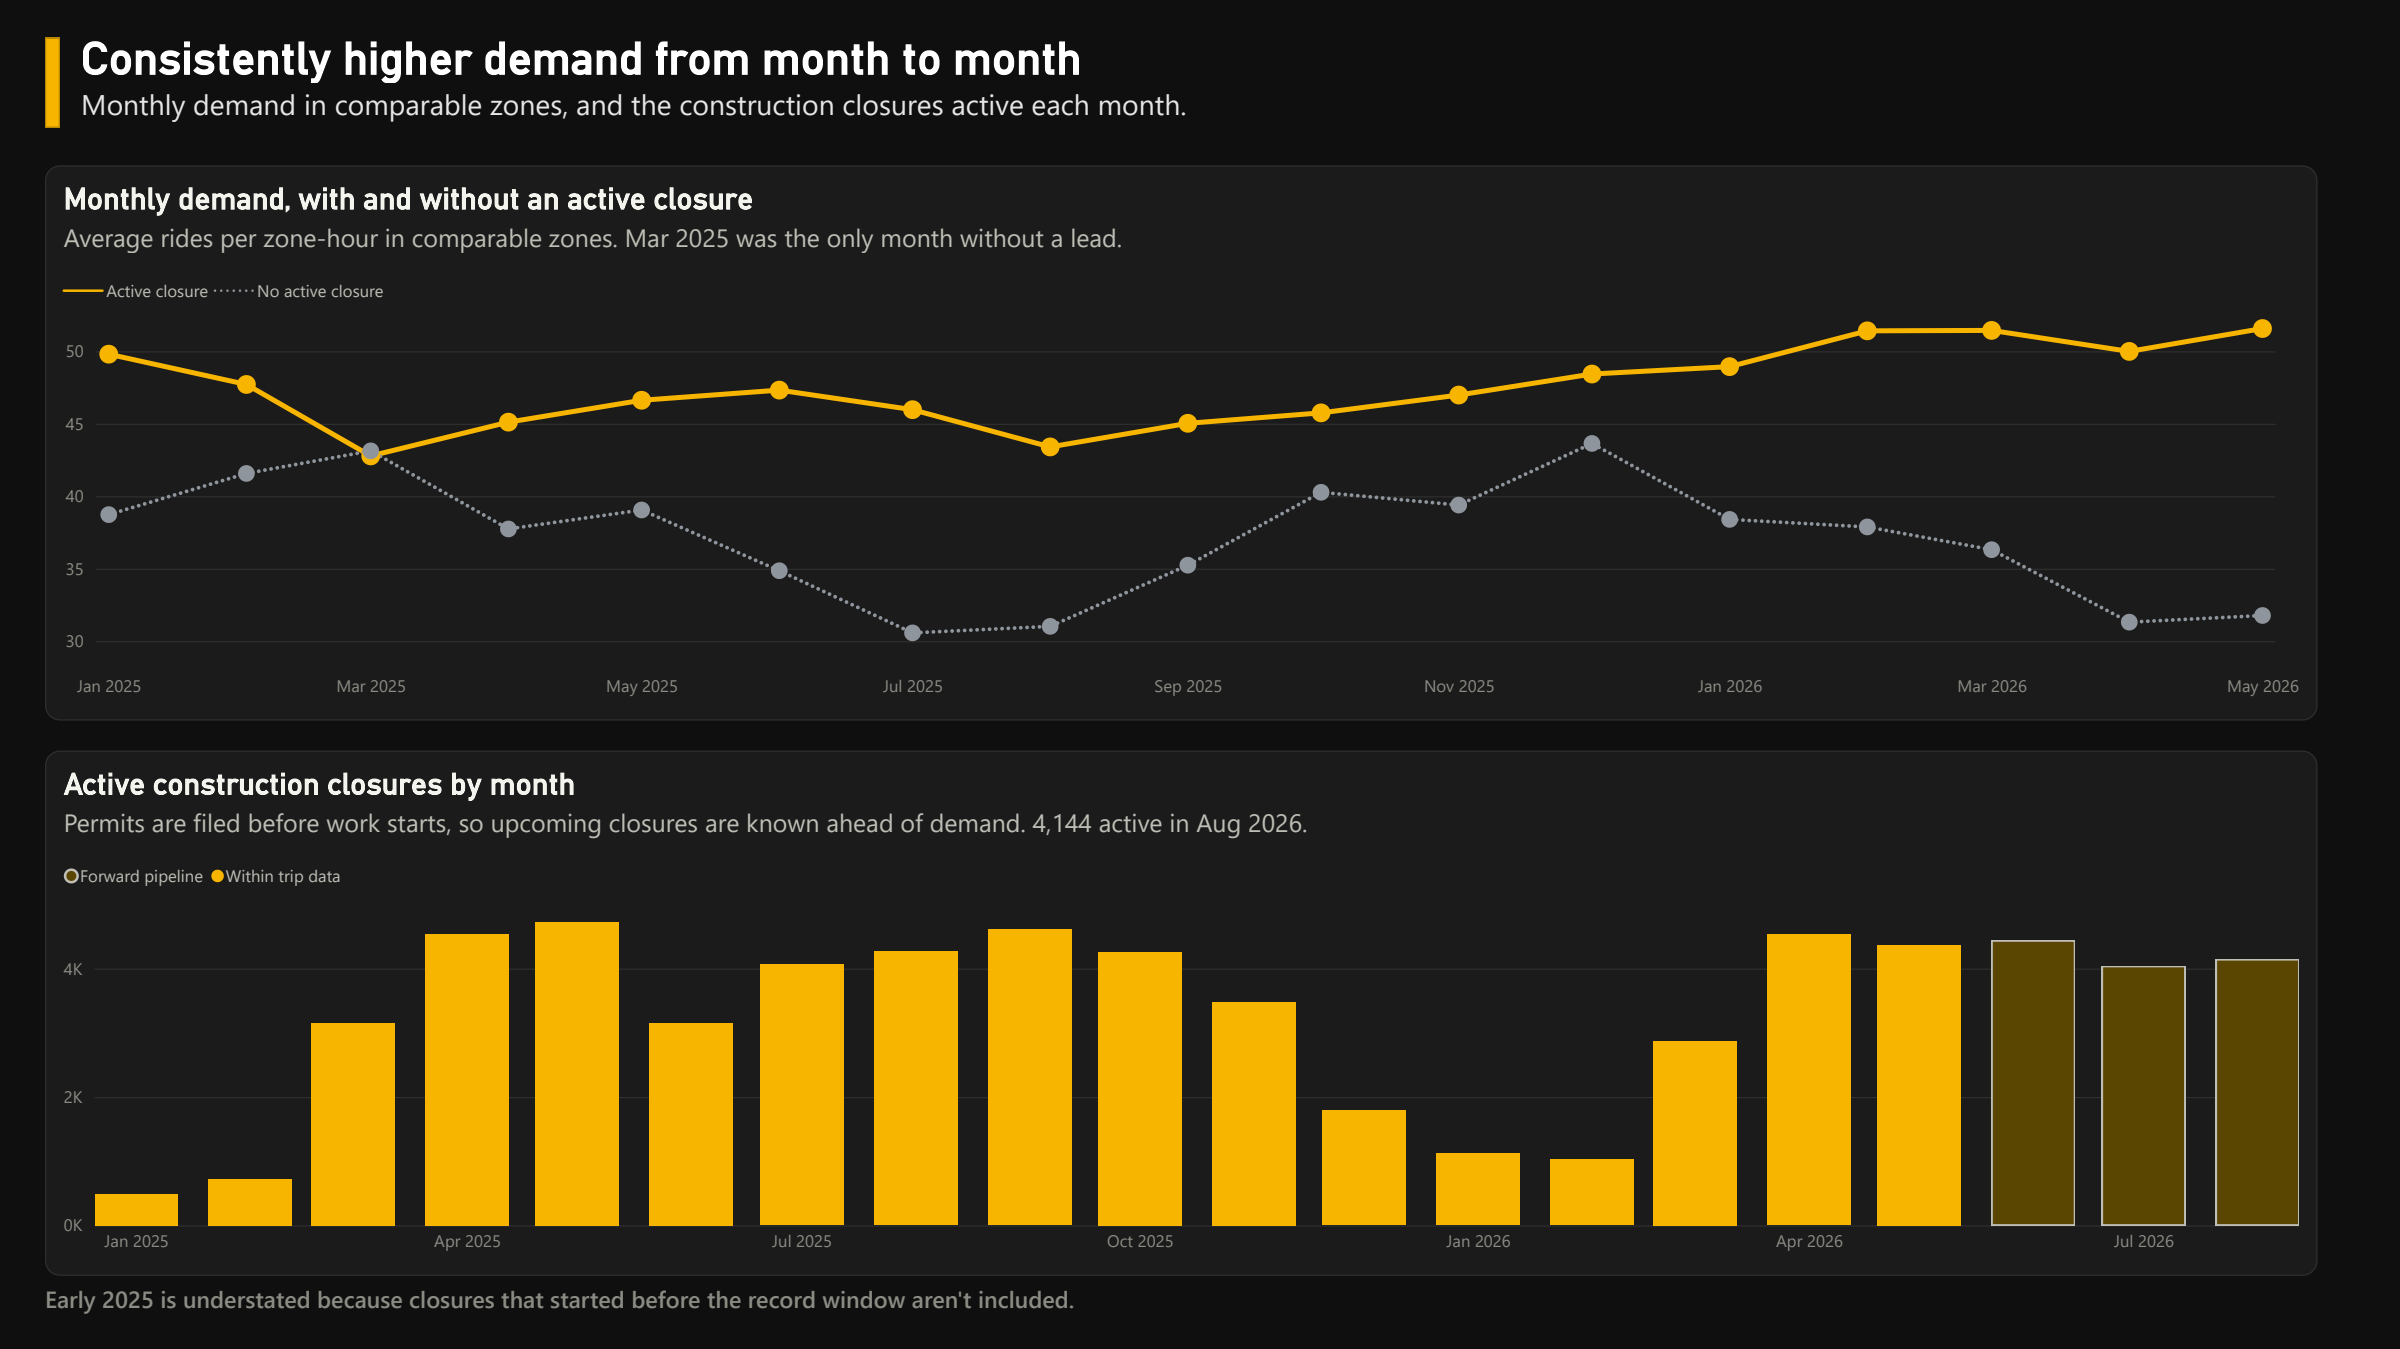

Layout of this report page (visuals, bound fields, positions):
{"tool":"powerbi","page":{"name":"Page 2","canvas":[1920,1080],"ordinal":1},"visuals":[{"type":"shape","box":[36,30,12,72],"z":0},{"type":"textbox","title":"Consistently higher demand from month to month","box":[65,25,1037.5,72],"z":1000},{"type":"lineChart","title":"Monthly demand, with and without an active closure","fields":{"Category":["04_monthly_gap.Month"],"Series":["04_monthly_gap.Series"],"Y":["Sum(04_monthly_gap.Avg rides per zone-hour)"]},"box":[36,132,1818,444],"z":2000},{"type":"columnChart","title":"Active construction closures by month","fields":{"Category":["05_closure_pipeline.Month"],"Series":["05_closure_pipeline.Period"],"Y":["Sum(05_closure_pipeline.Active closures)"]},"box":[36,600,1818,420],"z":3000},{"type":"textbox","title":"Early 2025 is understated because closures that started before the record window aren''t included.","box":[36,1026,1848,30],"z":4000}]}

Visuals, with their boxes in screenshot pixels (x1, y1, x2, y2), scaled from the page's 1920x1080 canvas onto the 2400x1349 screenshot:
shape: (x1=45, y1=37, x2=60, y2=127)
"Consistently higher demand from month to month" textbox: (x1=81, y1=31, x2=1378, y2=121)
"Monthly demand, with and without an active closure" lineChart: (x1=45, y1=165, x2=2318, y2=719)
"Active construction closures by month" columnChart: (x1=45, y1=749, x2=2318, y2=1274)
"Early 2025 is understated because closures that started before the record window aren''t included." textbox: (x1=45, y1=1282, x2=2355, y2=1319)
